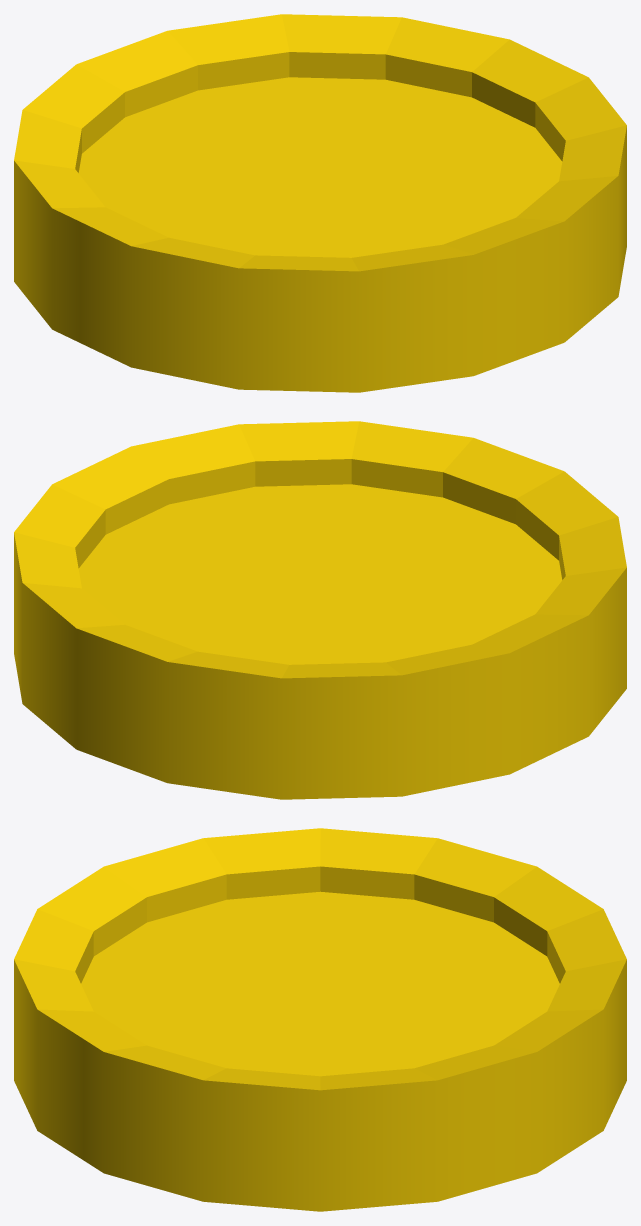
The model's file is coin.obj.
3 renders of one model, top to bottom at view 1: azimuth 30°, elevation 25°; view 2: azimuth 150°, elevation 25°; view 3: azimuth 270°, elevation 25°, orthographic.
Parts seen in each view (by area): view 1: coin; view 2: coin; view 3: coin.
Part boxes in pixels (x1,y1,x2,y2): coin: (14, 14, 626, 392); coin: (14, 421, 626, 799); coin: (14, 828, 626, 1211).
Bounding box in the file's own units: 2.42 × 0.5219 × 2.39.
